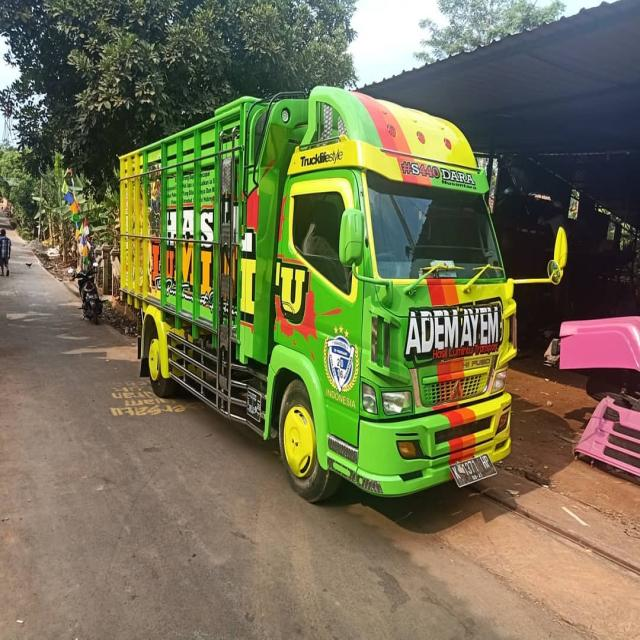truck: (120, 85, 568, 498)
